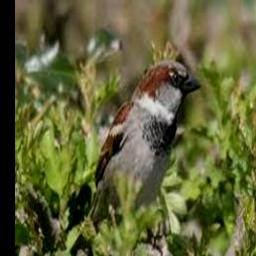Sparrow: (86, 60, 201, 227)
